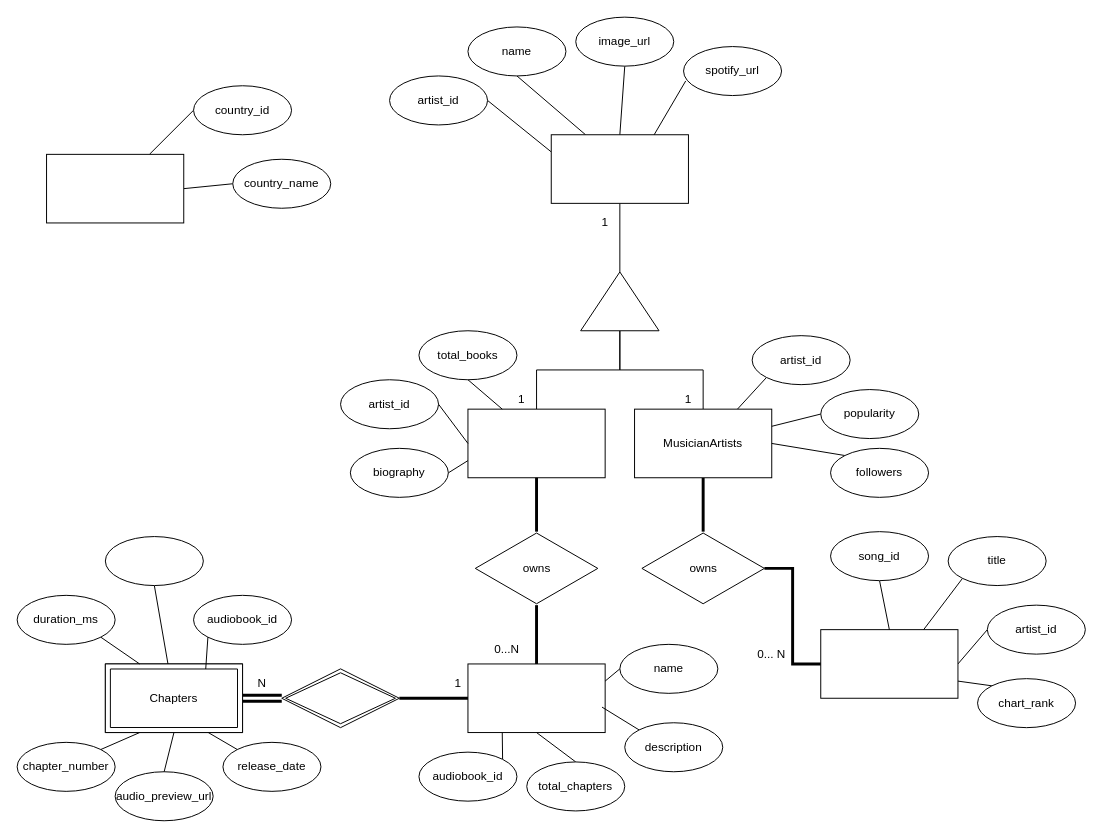
This 1103x838 diagram has some shape labels left out. Here are the shapes that lost their labels. From the top down, the centre of each, then its label:
At point 115,188: "Countries".
At point 619,168: "Artists".
At point 619,301: "ISA".
At point 536,443: "AudiobookArtist".
At point 153,561: "chapter_id".
At point 889,663: "Tracks".
At point 340,698: "has".
At point 536,698: "Audiobooks".
